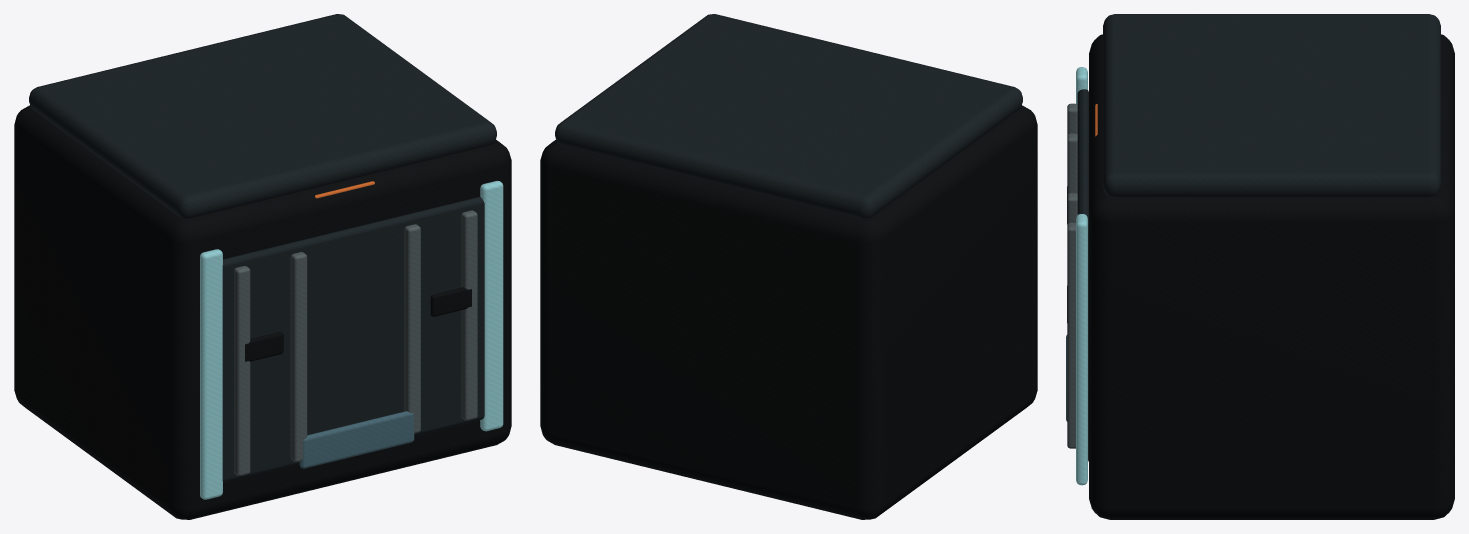
Rendered from CargoCrate.glb.
3 renders of one model, left to right at view 1: azimuth 30°, elevation 25°; view 2: azimuth 150°, elevation 25°; view 3: azimuth 270°, elevation 25°, orthographic. The views are drawn at different scales.
Parts seen in each view (by area): view 1: CargoCrate_Mesh; view 2: CargoCrate_Mesh; view 3: CargoCrate_Mesh.
Boxes of the visible parts, x1,y1,x2,y2 form: CargoCrate_Mesh: (14, 14, 511, 519); CargoCrate_Mesh: (540, 14, 1037, 519); CargoCrate_Mesh: (1066, 14, 1454, 519).
Bounding box in the file's own units: 0.9 × 0.81 × 0.829.
Materials: 6 (6 with a texture image).
